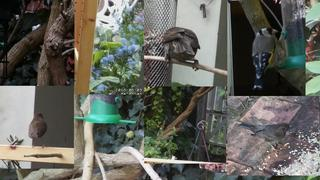blackbird: (238, 123, 293, 153)
goldfinch: (252, 27, 279, 90)
robin: (28, 112, 47, 149)
starling: (163, 27, 201, 72)
